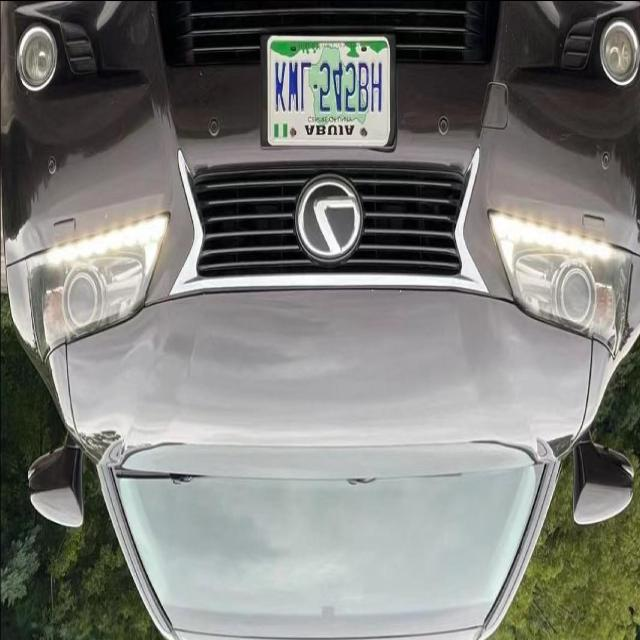Nigerian License Plate - vdataset benjamin-daria: (263, 30, 392, 152)
